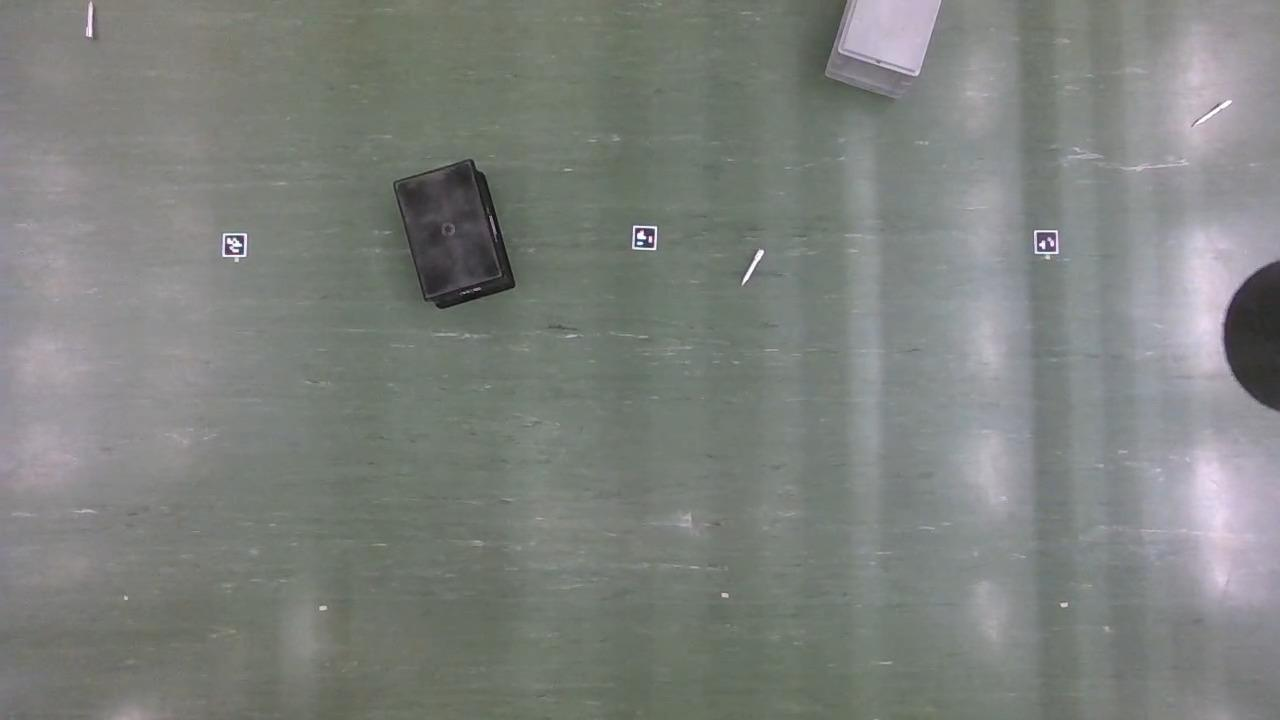probes: (1193, 100, 1230, 129), (743, 249, 763, 288), (86, 2, 95, 39)
rako: (394, 161, 516, 313), (823, 0, 942, 102)
